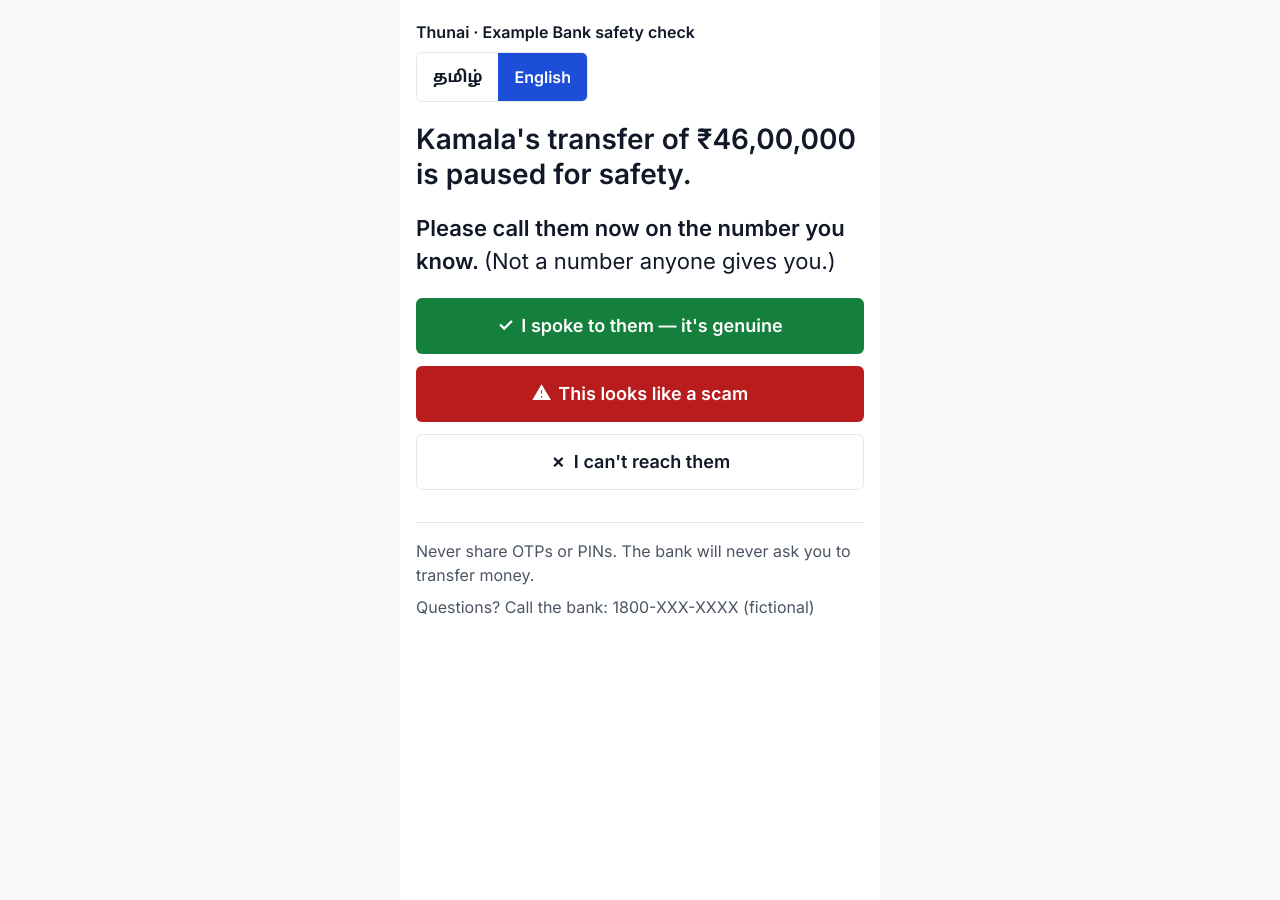
Test: TrustedContactPage (T-037) › shows the minimal facts and submits a confirmed response
Expected: the heading "Kamala's transfer of ₹46,00,000 is paused for safety." is shown, [416,122,864,192]
Click the button "⚠ This looks like a scam": (640, 394) [416,366,864,422]
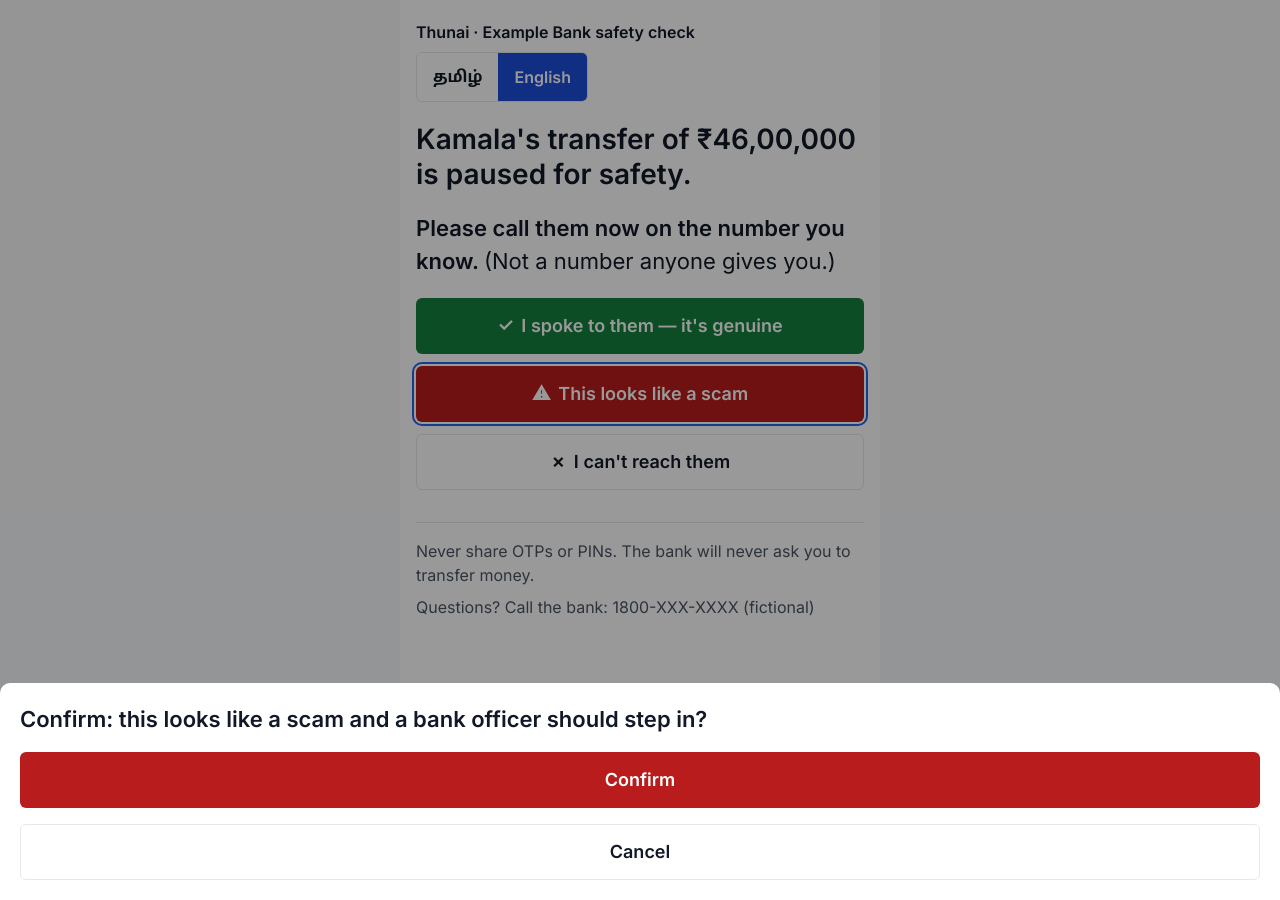
Expected: the dialog shows "a bank officer should step in", [20,706,707,732]
Click the button "Confirm": (640, 780) [20,752,1260,808]
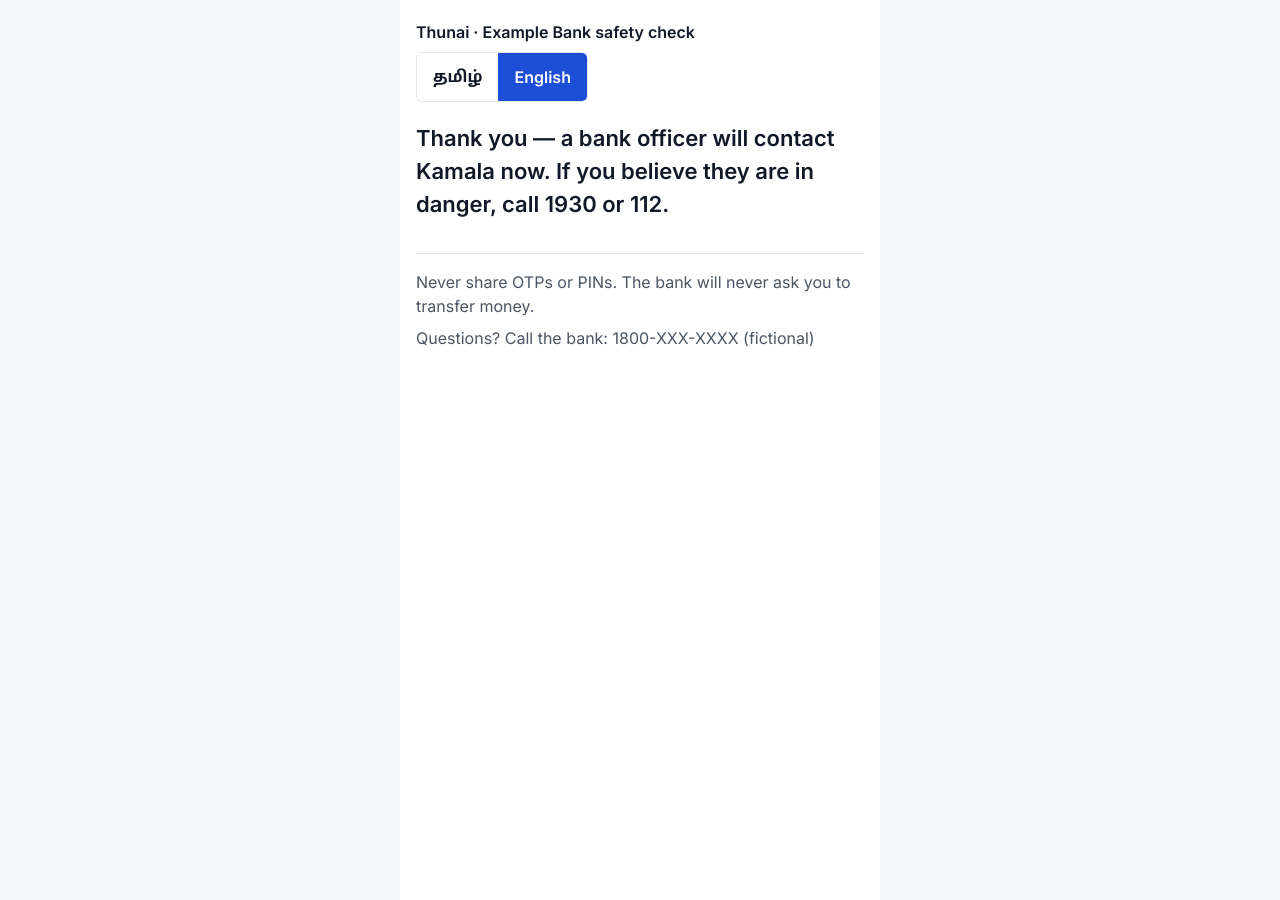
Expected: the text "a bank officer will contact Kamala now" is shown, [416,125,835,217]
